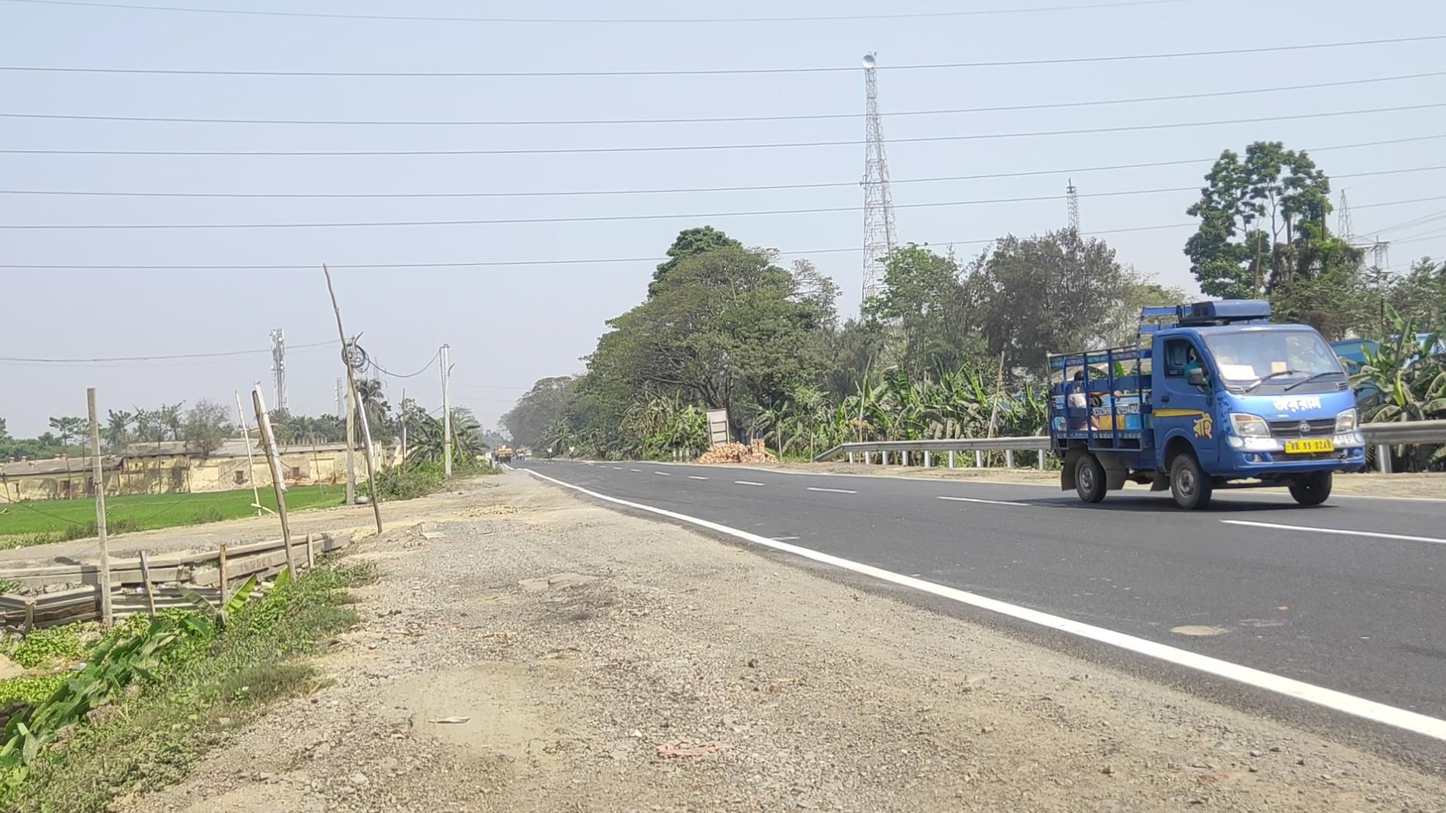van: (1045, 299, 1365, 510)
